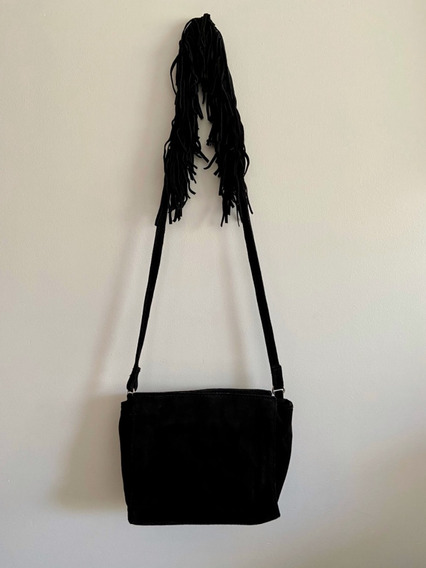cartera: (115, 13, 295, 528)
